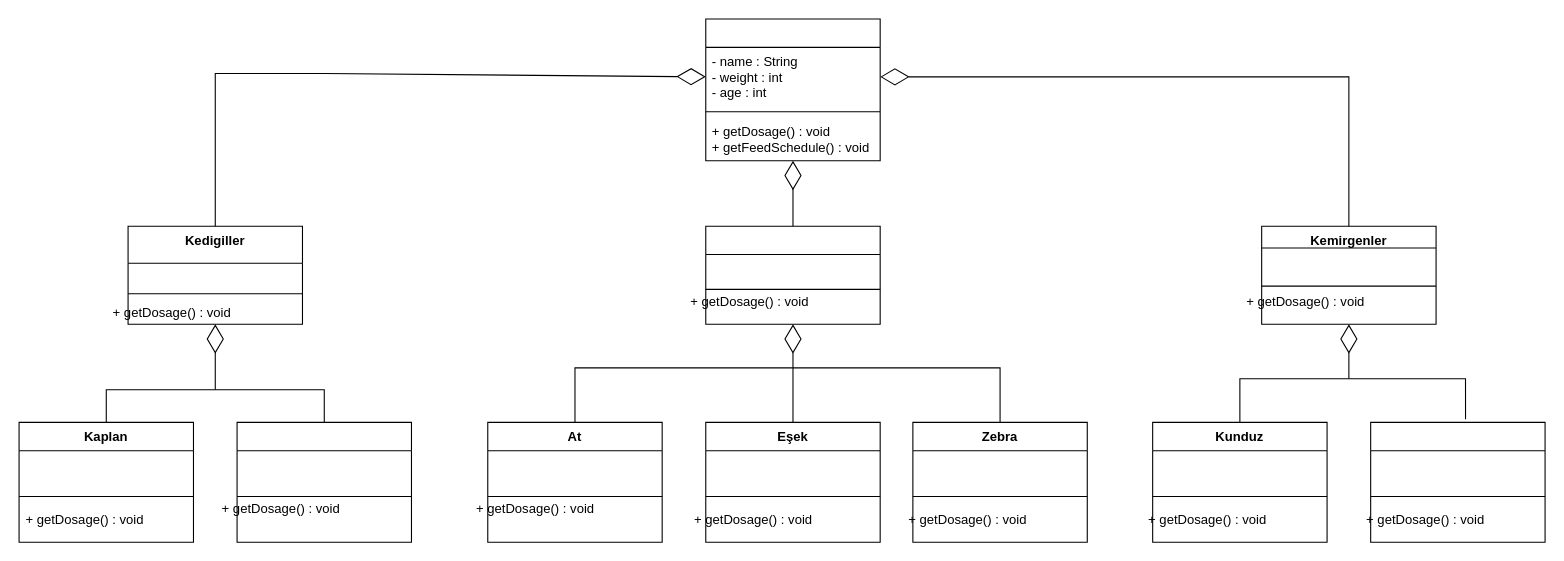
The diagram is 1564 pixels wide and 561 high, and some of its shapes have lost their labels. Each missing label, with the box of its shape:
Aslan: (236, 421, 411, 542)
Atlar: (705, 225, 880, 324)
Hayvanlar: (705, 18, 880, 161)
Sıçan: (1370, 421, 1545, 542)
